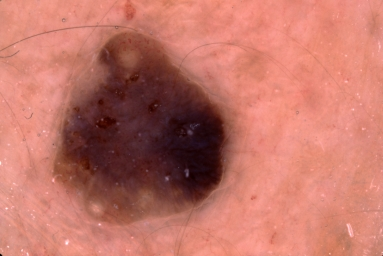seborrheic keratosis: (43, 24, 242, 233)
